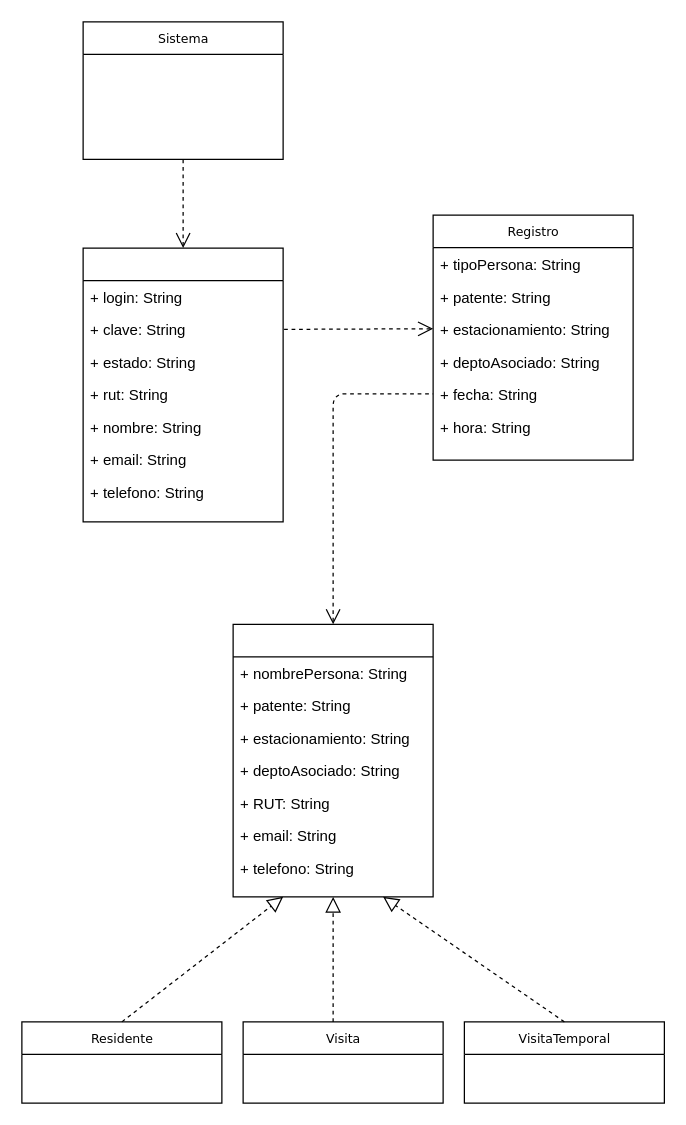
Image size: 686x1125. Some labels were removed from this diagram. The box of each missing label's shape, as (x1, y1, x2, y2) in pixels:
Usuario: (82, 247, 283, 522)
Vehiculo: (232, 623, 433, 897)
